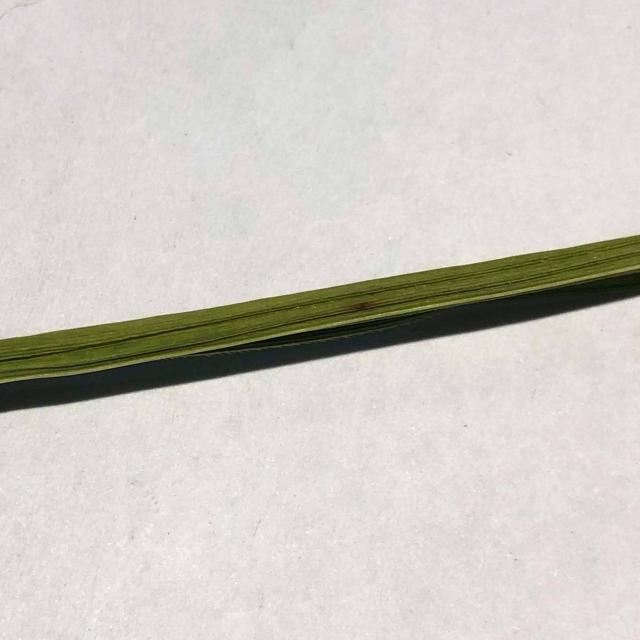brownspots: (325, 295, 395, 317)
